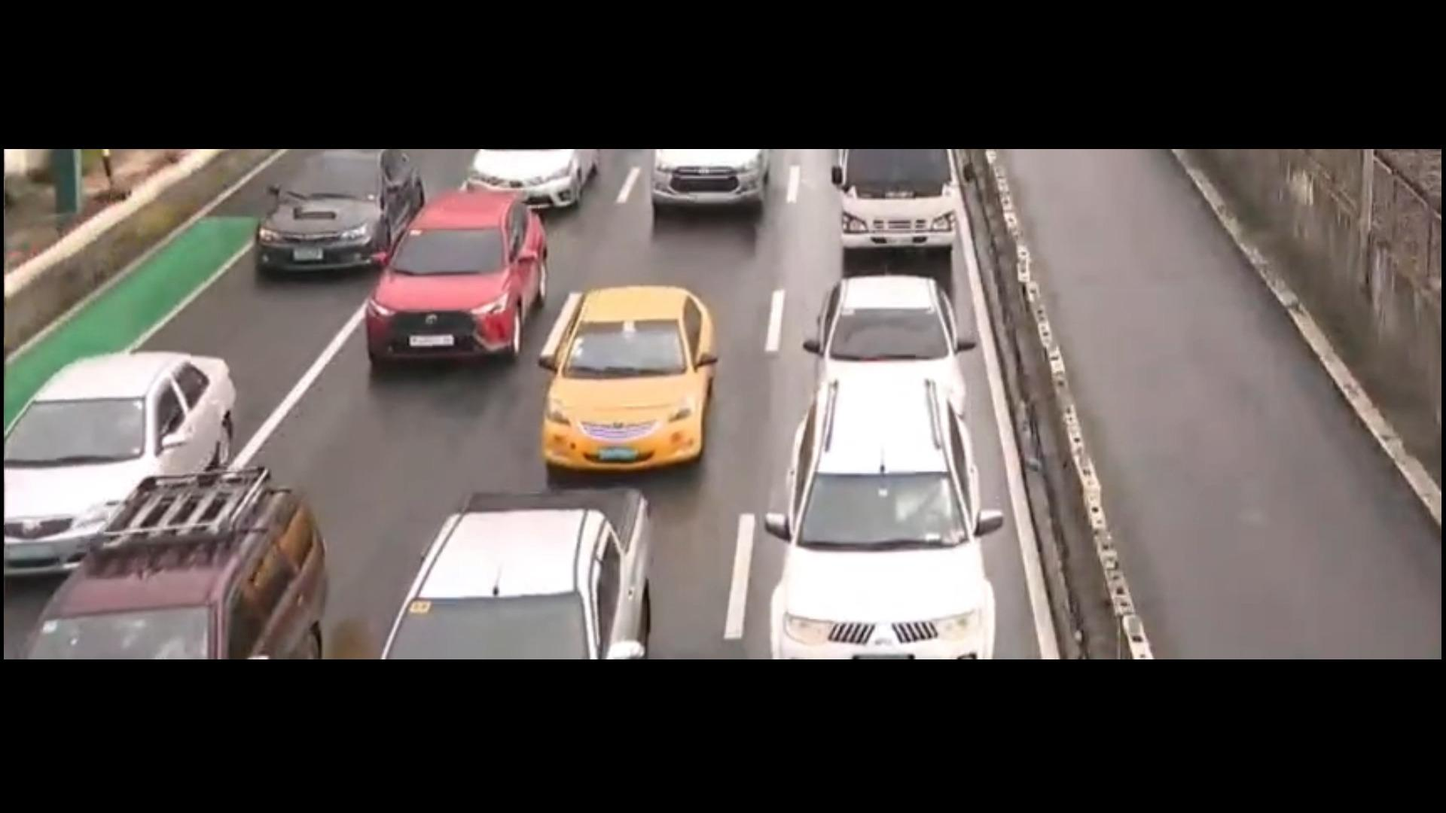Pickup: (376, 465, 686, 657)
SUV: (766, 365, 1027, 670), (0, 473, 388, 658), (332, 188, 560, 369)
Sedan: (0, 328, 249, 565), (516, 266, 735, 485), (234, 148, 438, 285), (814, 254, 976, 404)
Truck: (819, 152, 971, 260)
